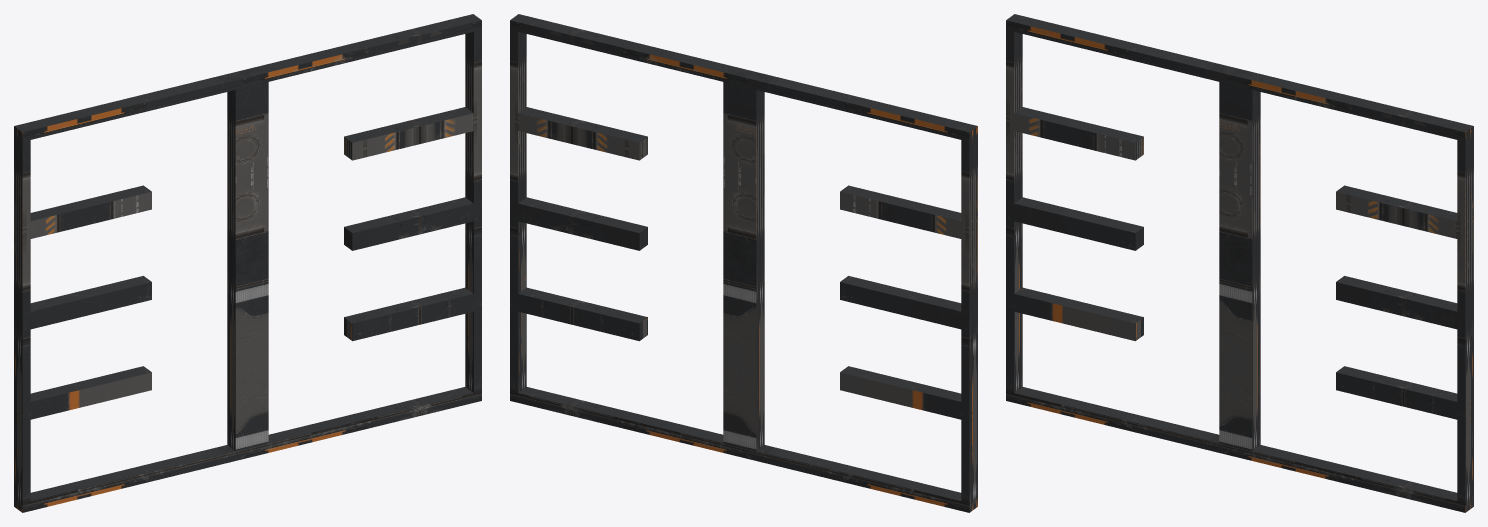
Rendered from Level4.fbx.
The picture shows the model from 3 angles, left to right: view 1: azimuth 30°, elevation 25°; view 2: azimuth 150°, elevation 25°; view 3: azimuth 330°, elevation 25°; orthographic projection.
Visible parts, largest first — view 1: Cube; view 2: Cube; view 3: Cube.
Part boxes in pixels (<box>): Cube: <box>14,14,481,512</box>; Cube: <box>510,14,977,512</box>; Cube: <box>1006,14,1473,512</box>.
Size of the model in its own units: 3199 by 2533 by 104.
